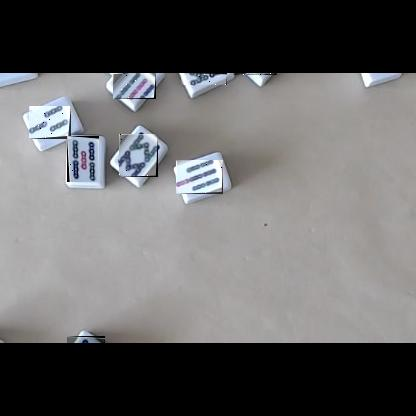3s: (29, 106, 71, 139)
5s: (67, 136, 99, 182)
6s: (67, 336, 105, 343)
7s: (176, 160, 223, 194)
8s: (119, 134, 158, 177), (181, 73, 227, 85), (233, 73, 277, 75)
9s: (113, 73, 156, 99)
